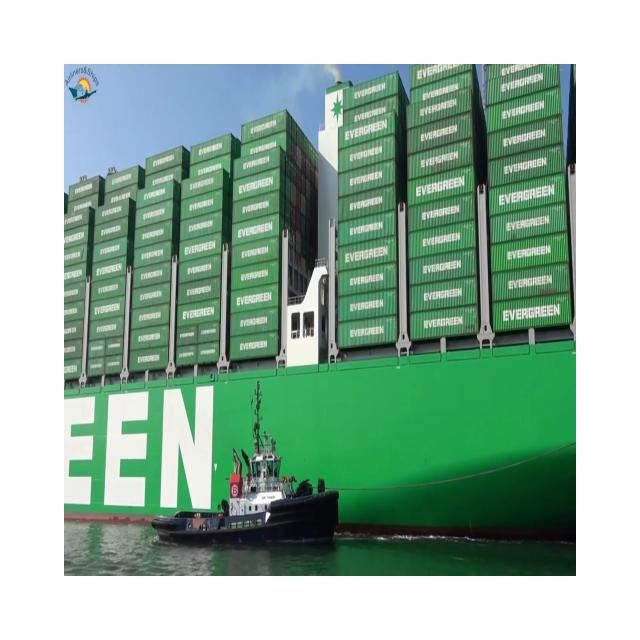OCR: (65, 385, 223, 541)
